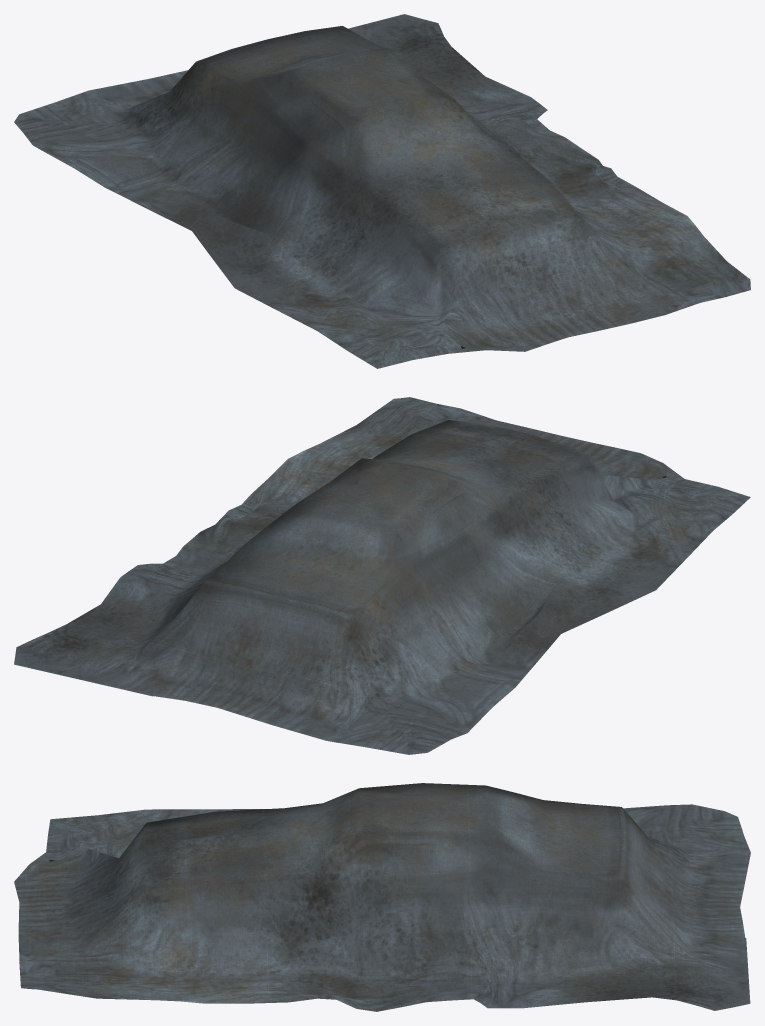
Rendered from Car Cover.fbx.
The picture shows the model from 3 angles, top to bottom: view 1: azimuth 30°, elevation 25°; view 2: azimuth 150°, elevation 25°; view 3: azimuth 270°, elevation 25°; orthographic projection. The views are drawn at different scales.
Visible parts, largest first — view 1: RetopoGroup1; view 2: RetopoGroup1; view 3: RetopoGroup1.
Boxes of the visible parts, box(x1,y1,x2,y2) form: RetopoGroup1: box(14, 14, 750, 368); RetopoGroup1: box(14, 397, 750, 754); RetopoGroup1: box(14, 783, 750, 1011).
Bounding box in the file's own units: 311 × 78.23 × 471.
